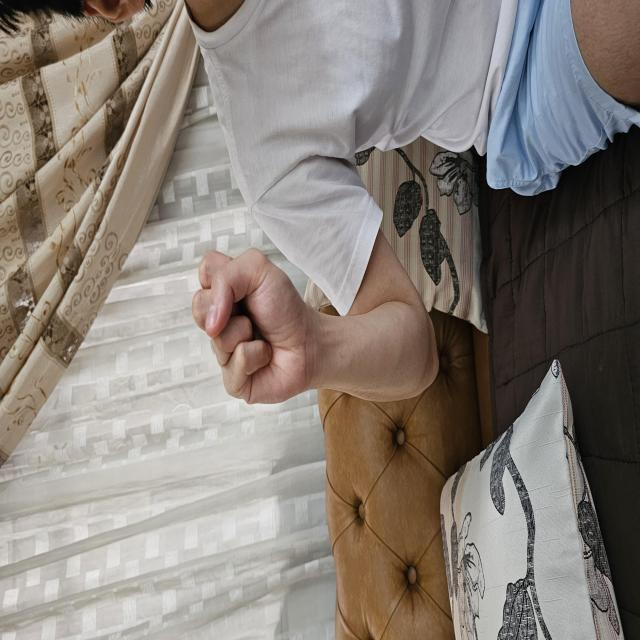S: (233, 190, 396, 310)
